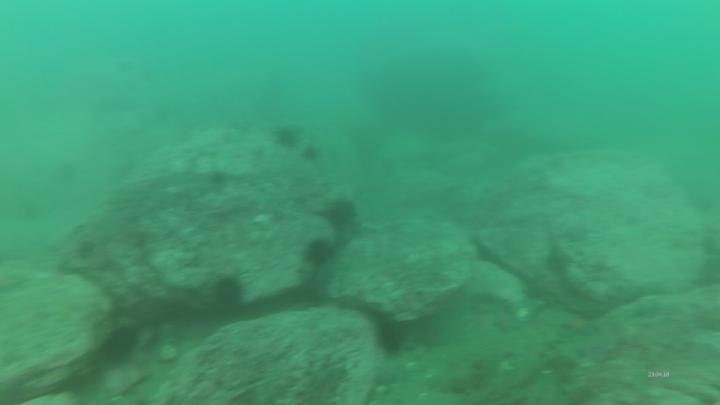echinus: (97, 323, 141, 369), (372, 317, 409, 357), (209, 273, 247, 311), (321, 195, 360, 232), (535, 247, 574, 284), (301, 235, 337, 269), (271, 122, 303, 150), (299, 143, 323, 165)
starfish: (558, 313, 601, 340)
